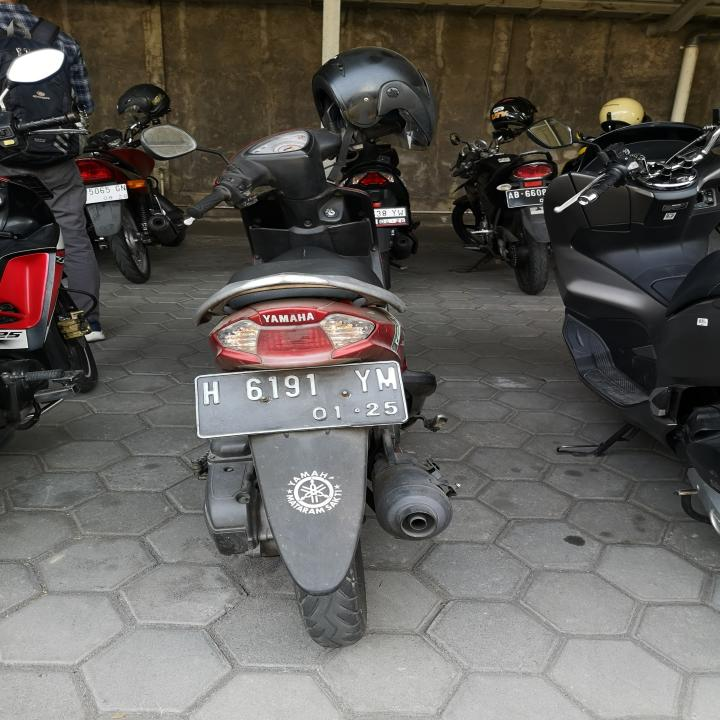plate: (191, 358, 411, 439), (505, 186, 548, 209), (85, 183, 129, 204)
